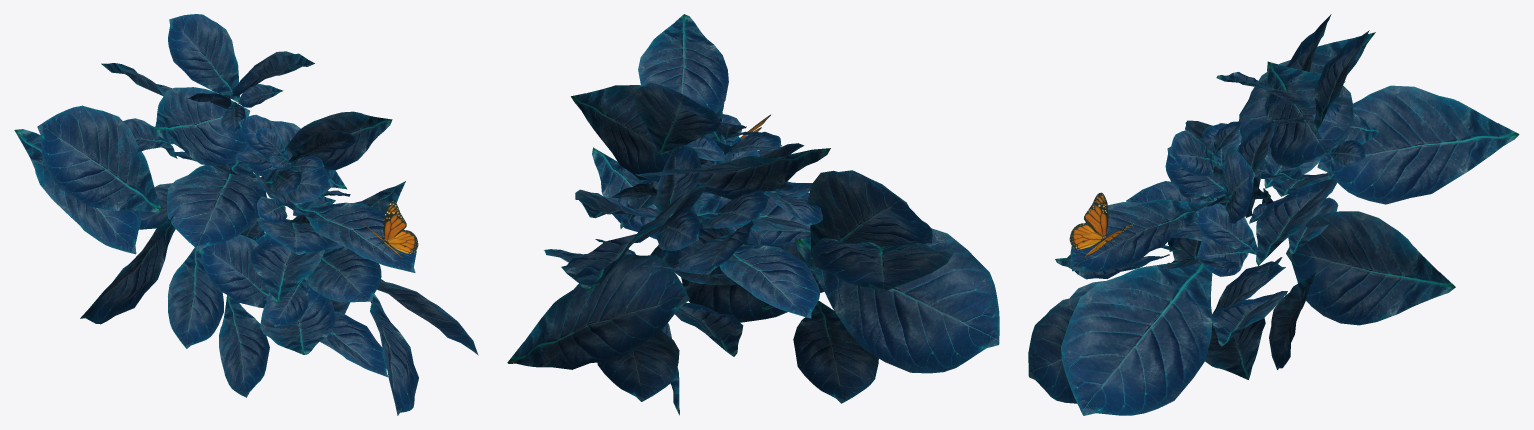
Rendered from butterfly-orange-instances-transformed.glb.
3 views of the same model, side by side, from view 1: azimuth 30°, elevation 25°; view 2: azimuth 150°, elevation 25°; view 3: azimuth 270°, elevation 25° (orthographic). The views are drawn at different scales.
Parts seen in each view (by area): view 1: leaf.024, leaf.007, leaf.039, leaf.036, leaf, leaf.046, leaf.054, leaf.047, leaf.045, leaf.018, leaf.001, leaf.050 (+24 smaller); view 2: leaf.045, leaf.044, leaf.024, leaf.013, leaf.047, leaf.054, leaf.050, leaf.008, leaf.039, leaf.036, leaf.048, leaf.055 (+15 smaller); view 3: leaf.031, leaf.055, leaf.044, leaf.039, leaf, leaf.052, leaf.014, leaf.040, leaf.048, leaf.054, leaf.036, leaf.017 (+24 smaller).
Part boxes in pixels (x1=…): leaf.024: x1=37, y1=105, x2=161, y2=212; leaf.007: x1=167, y1=160, x2=263, y2=250; leaf.039: x1=155, y1=87, x2=250, y2=165; leaf.036: x1=168, y1=14, x2=239, y2=102; leaf: x1=294, y1=201, x2=416, y2=272; leaf.046: x1=168, y1=247, x2=223, y2=348; leaf.054: x1=14, y1=129, x2=140, y2=254; leaf.047: x1=219, y1=295, x2=269, y2=397; leaf.045: x1=80, y1=213, x2=175, y2=324; leaf.018: x1=200, y1=234, x2=268, y2=308; leaf.001: x1=307, y1=246, x2=381, y2=302; leaf.050: x1=286, y1=111, x2=392, y2=170; leaf.045: x1=795, y1=228, x2=999, y2=373; leaf.044: x1=507, y1=254, x2=689, y2=369; leaf.024: x1=807, y1=170, x2=932, y2=262; leaf.013: x1=638, y1=14, x2=728, y2=113; leaf.047: x1=793, y1=300, x2=878, y2=403; leaf.054: x1=812, y1=238, x2=955, y2=292; leaf.050: x1=571, y1=85, x2=671, y2=180; leaf.008: x1=719, y1=244, x2=820, y2=318; leaf.039: x1=635, y1=148, x2=830, y2=199; leaf.036: x1=634, y1=82, x2=720, y2=155; leaf.048: x1=597, y1=330, x2=679, y2=401; leaf.055: x1=561, y1=184, x2=706, y2=289; leaf.031: x1=1061, y1=262, x2=1212, y2=415; leaf.055: x1=1317, y1=85, x2=1519, y2=204; leaf.044: x1=1286, y1=211, x2=1455, y2=325; leaf.039: x1=1266, y1=61, x2=1353, y2=167; leaf: x1=1070, y1=199, x2=1205, y2=271; leaf.052: x1=1028, y1=296, x2=1081, y2=403; leaf.014: x1=1256, y1=177, x2=1337, y2=265; leaf.040: x1=1205, y1=318, x2=1265, y2=379; leaf.048: x1=1269, y1=273, x2=1315, y2=369; leaf.054: x1=1239, y1=32, x2=1375, y2=143; leaf.036: x1=1313, y1=30, x2=1369, y2=133; leaf.017: x1=1196, y1=203, x2=1257, y2=254.
Bounding box in the file's own units: 18.87 × 16.09 × 22.2.
2 materials, 2 textured.
